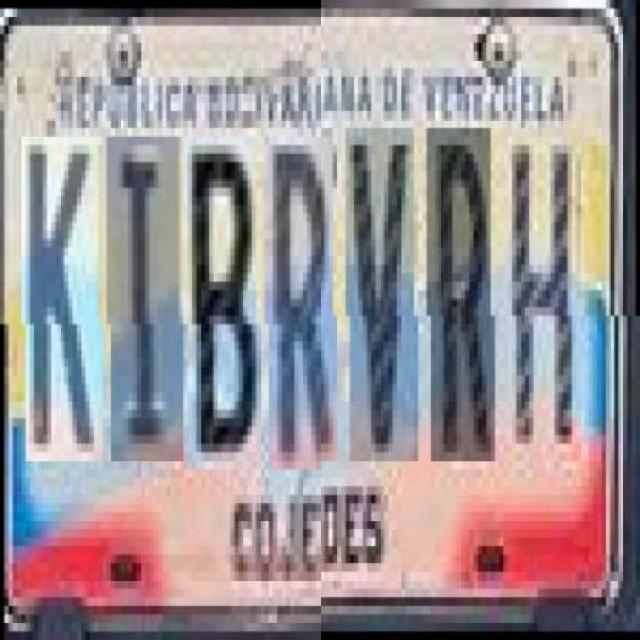b: (187, 136, 261, 470)
h: (507, 136, 581, 470)
i: (110, 136, 184, 461)
k: (26, 136, 102, 461)
r: (268, 136, 338, 470), (431, 136, 495, 470)
v: (350, 136, 418, 470)
